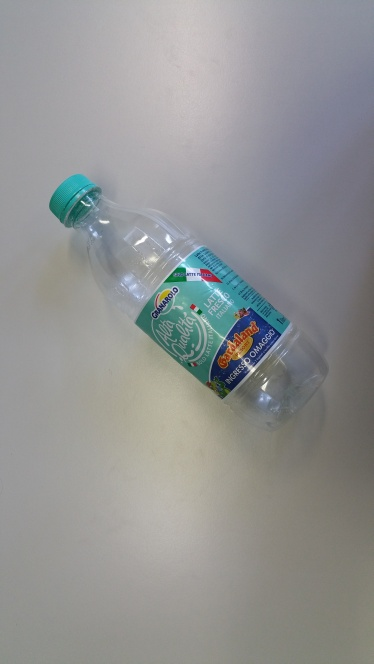bottle: (39, 176, 327, 432)
